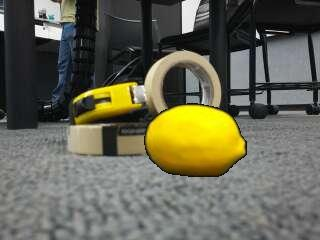lemon: (148, 105, 248, 176)
